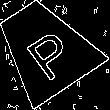P_NW: (14, 17, 76, 79)
